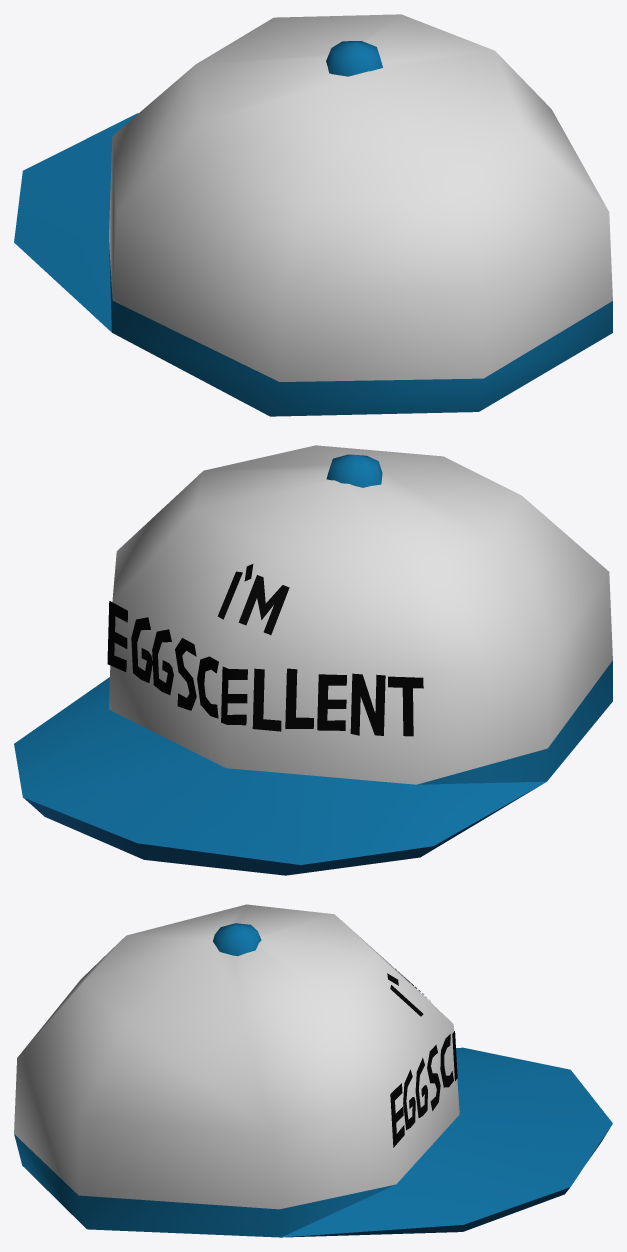
File: hat_eggscellent.glb
3 views of the same model, one above another, from view 1: azimuth 30°, elevation 25°; view 2: azimuth 150°, elevation 25°; view 3: azimuth 270°, elevation 25° (orthographic). The views are drawn at different scales.
Visible parts, largest first — view 1: hat_eggscellent; view 2: hat_eggscellent; view 3: hat_eggscellent.
Part boxes in pixels (x1,y1,x2,y2): hat_eggscellent: (14, 14, 612, 416); hat_eggscellent: (14, 445, 612, 875); hat_eggscellent: (14, 904, 612, 1237).
Size of the model in its own units: 0.3414 by 0.2082 by 0.4706.
